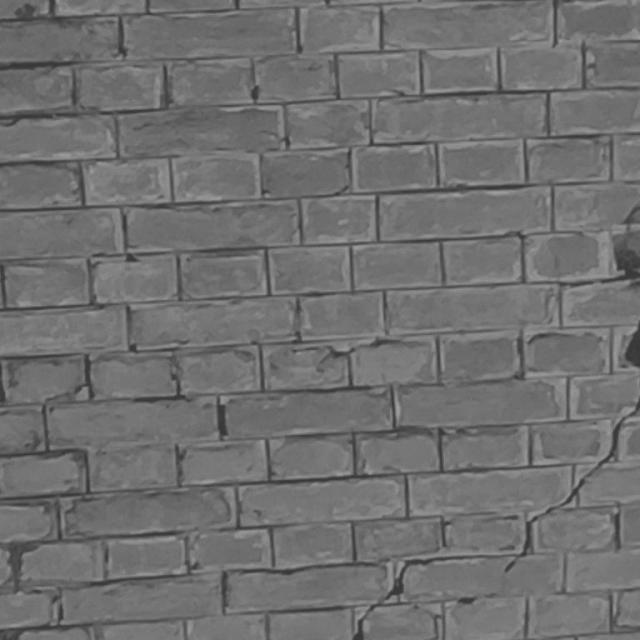crack: (503, 398, 639, 575), (354, 559, 434, 640), (615, 204, 639, 281), (623, 322, 639, 369)
